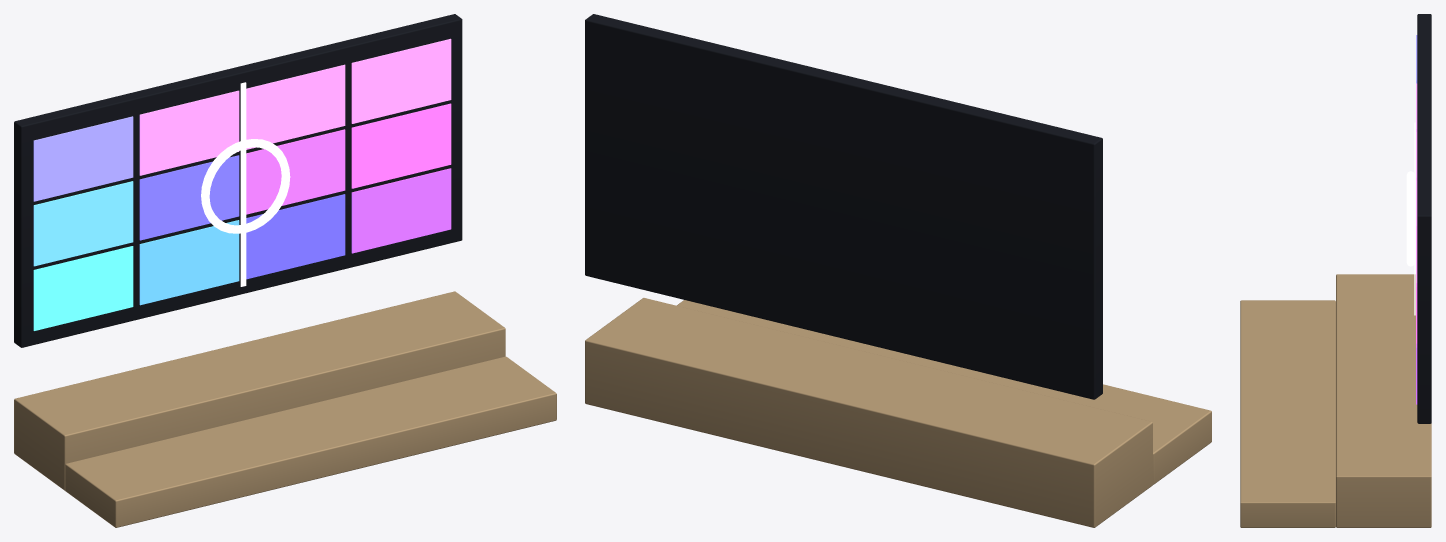
The model's file is video-wall.glb.
3 views of the same model, side by side, from view 1: azimuth 30°, elevation 25°; view 2: azimuth 150°, elevation 25°; view 3: azimuth 270°, elevation 25° (orthographic). The views are drawn at different scales.
Parts seen in each view (by area): view 1: video-wall-solid, video-wall-glow (×12), pulse-2-rotor-glow, playhead-1-rotor-glow; view 2: video-wall-solid; view 3: video-wall-solid, pulse-2-rotor-glow, playhead-1-rotor-glow.
Part boxes in pixels (<box>): video-wall-solid: <box>14,14,556,527</box>; video-wall-glow (×12): <box>33,38,451,330</box>; pulse-2-rotor-glow: <box>201,139,290,233</box>; playhead-1-rotor-glow: <box>240,82,246,286</box>; video-wall-solid: <box>585,14,1211,527</box>; video-wall-solid: <box>1240,14,1431,527</box>; pulse-2-rotor-glow: <box>1406,171,1414,266</box>; playhead-1-rotor-glow: <box>1414,122,1415,315</box>.
Bounding box in the file's own units: 1.6 × 1.15 × 0.6395.
